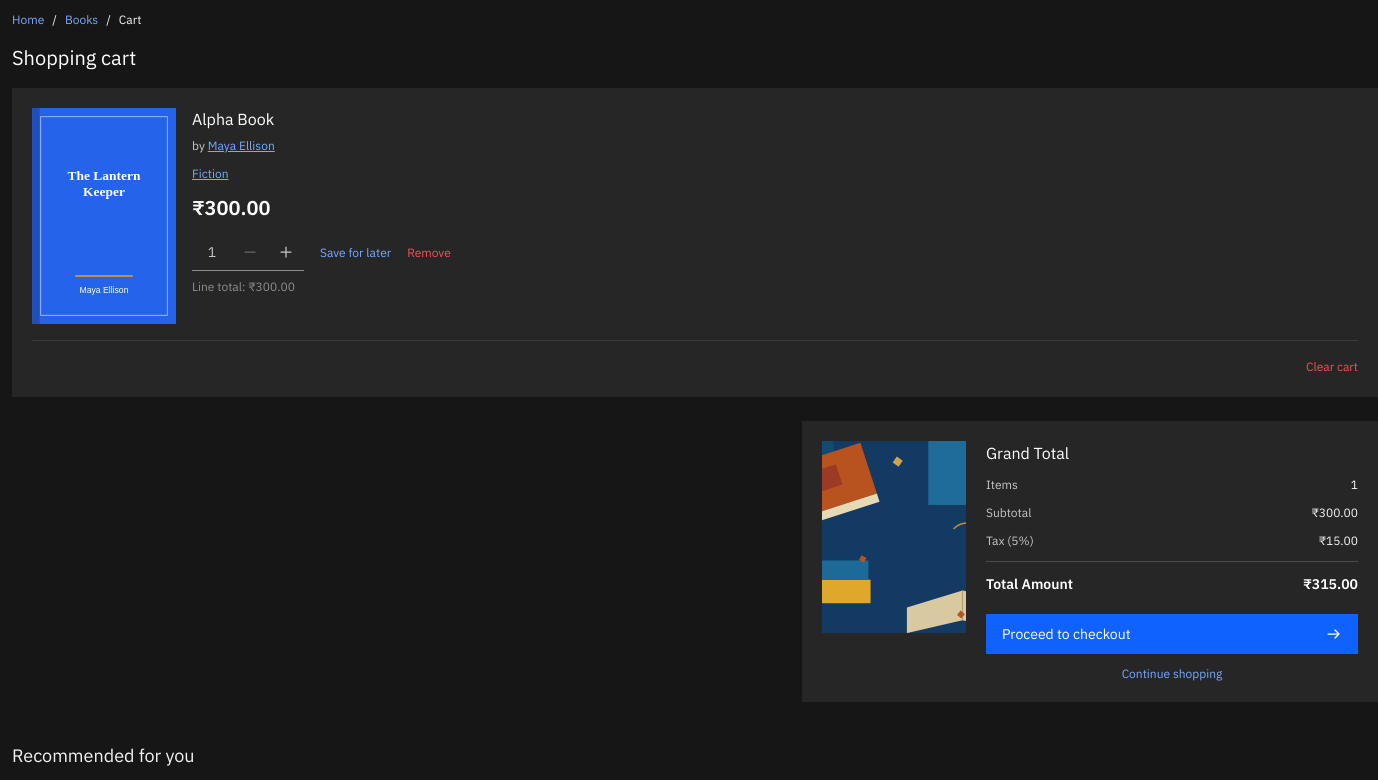
CartPage › updates quantity
Click the button named "Increase quantity of Alpha Book" at (286, 252), box [268,234,304,270]
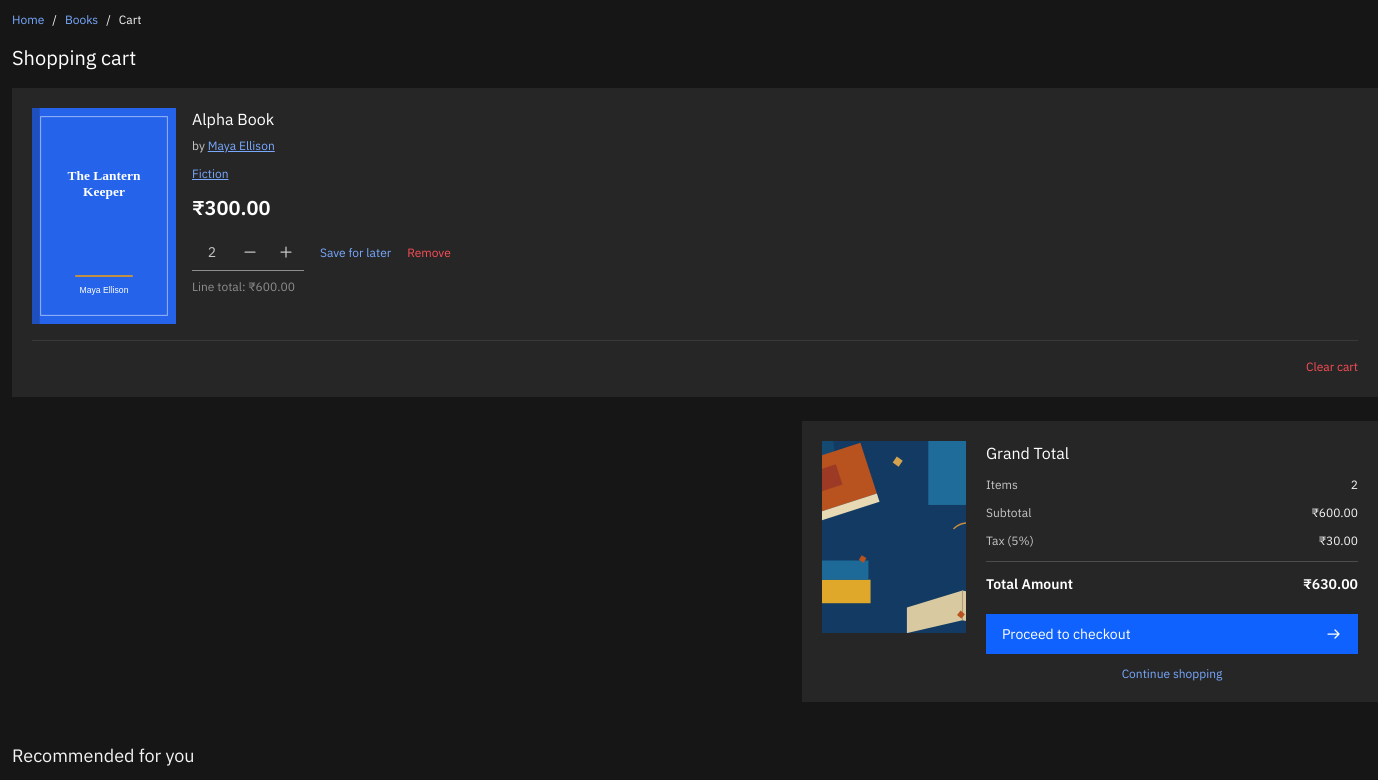
Check: the text with test id "summary-qty" reads "2", box [1351,477,1358,492]
